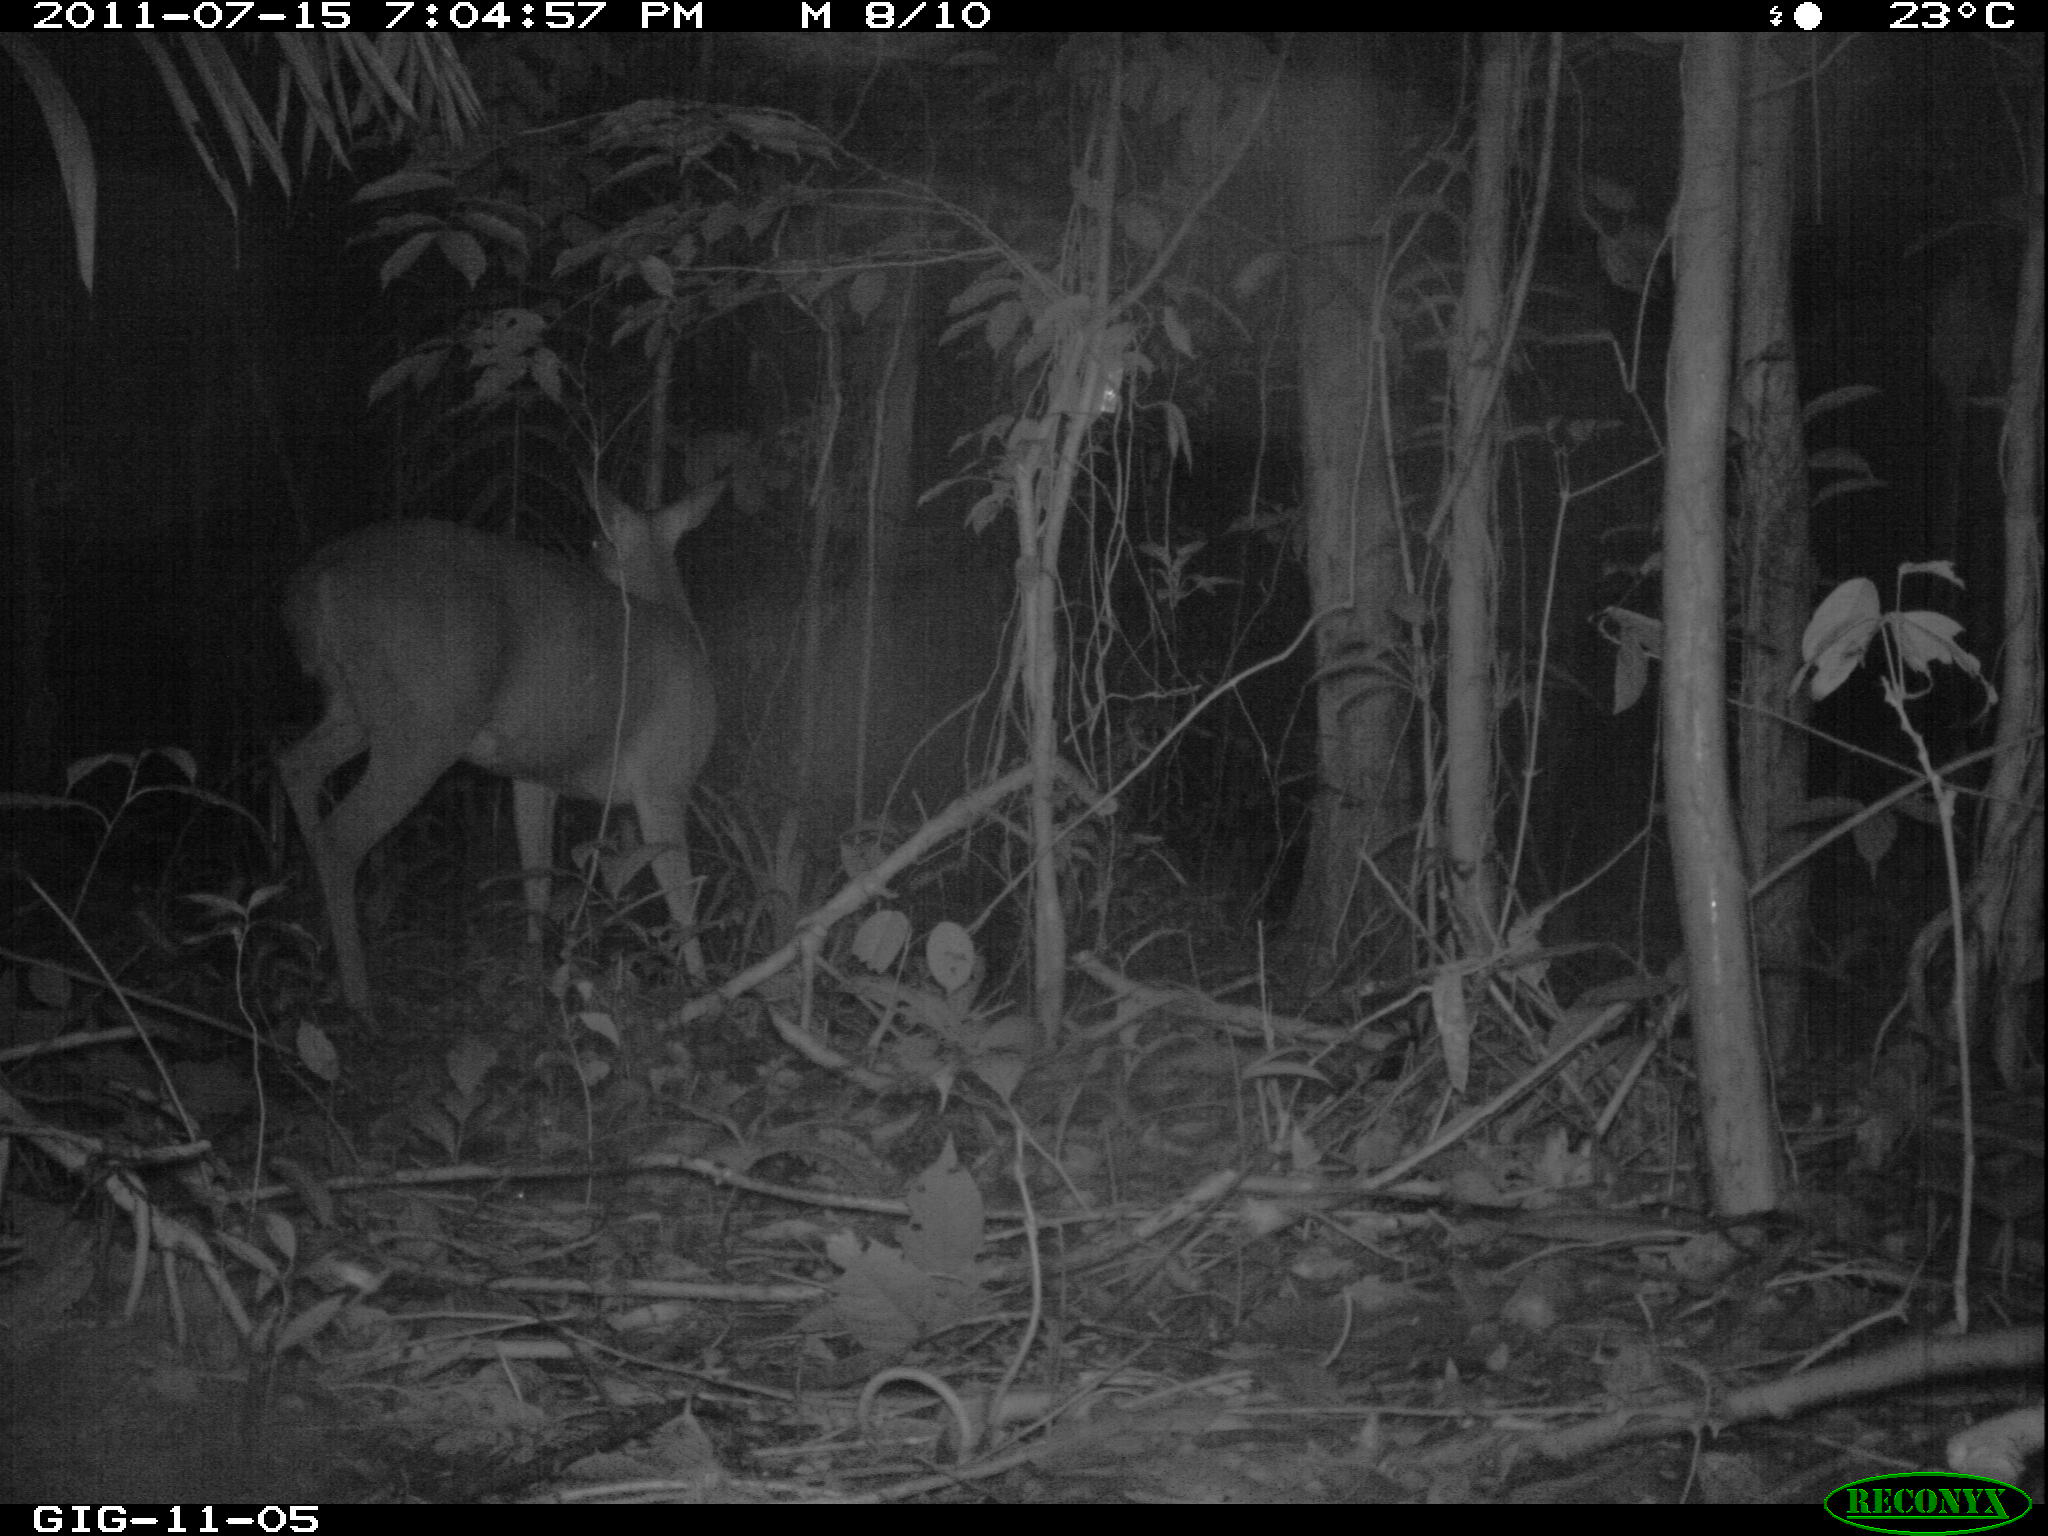Deer: (271, 465, 742, 1020)
